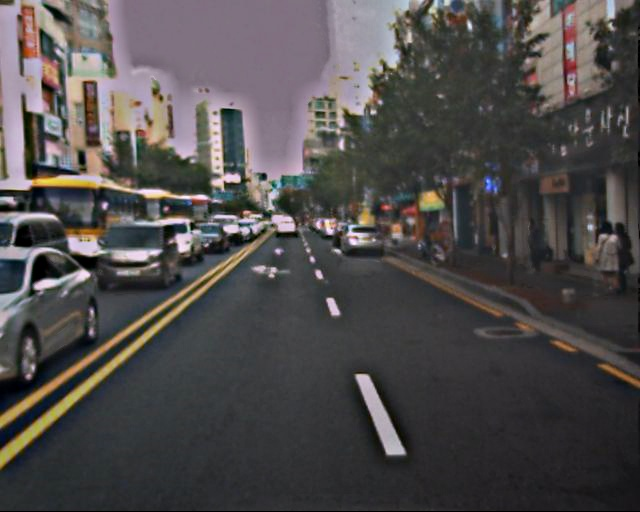person: (586, 220, 618, 299), (600, 220, 631, 296), (522, 218, 547, 279), (482, 213, 502, 262)
